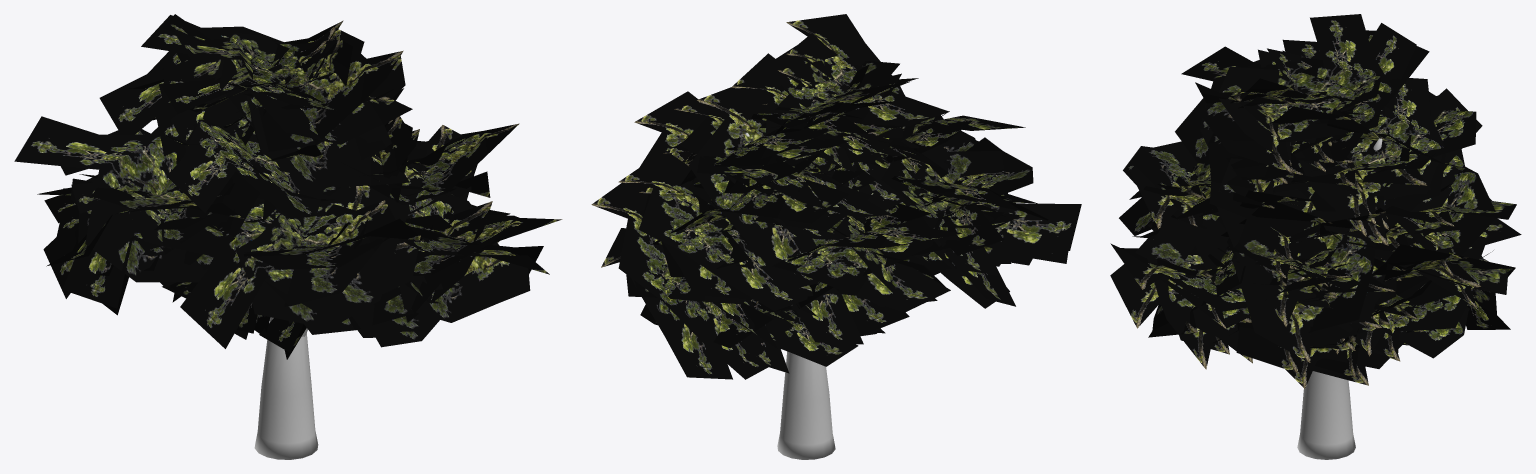
Rendered from Tree Texture V1.fbx.
3 views of the same model, side by side, from view 1: azimuth 30°, elevation 25°; view 2: azimuth 150°, elevation 25°; view 3: azimuth 270°, elevation 25° (orthographic). The views are drawn at different scales.
Parts seen in each view (by area): view 1: Cylinder|TexturesCom_Trees0134_1_masked_S|Dupli|144, Cylinder|TexturesCom_Trees0134_1_masked_S|Dupli|68, Cylinder|TexturesCom_Trees0134_1_masked_S|Dupli|95, Cylinder|TexturesCom_Trees0134_1_masked_S|Dupli|54, Cylinder, Cylinder|TexturesCom_Trees0134_1_masked_S|Dupli|56, Cylinder|TexturesCom_Trees0134_1_masked_S|Dupli|73, Cylinder|TexturesCom_Trees0134_1_masked_S|Dupli|72, Cylinder|TexturesCom_Trees0134_1_masked_S|Dupli|55, Cylinder|TexturesCom_Trees0134_1_masked_S|Dupli|117, Cylinder|TexturesCom_Trees0134_1_masked_S|Dupli|99, Cylinder|TexturesCom_Trees0134_1_masked_S|Dupli|83 (+35 smaller); view 2: Cylinder|TexturesCom_Trees0134_1_masked_S|Dupli|92, Cylinder|TexturesCom_Trees0134_1_masked_S|Dupli|97, Cylinder|TexturesCom_Trees0134_1_masked_S|Dupli|125, Cylinder|TexturesCom_Trees0134_1_masked_S|Dupli|142, Cylinder|TexturesCom_Trees0134_1_masked_S|Dupli|123, Cylinder, Cylinder|TexturesCom_Trees0134_1_masked_S|Dupli|54, Cylinder|TexturesCom_Trees0134_1_masked_S|Dupli|29, Cylinder|TexturesCom_Trees0134_1_masked_S|Dupli|99, Cylinder|TexturesCom_Trees0134_1_masked_S|Dupli|114, Cylinder|TexturesCom_Trees0134_1_masked_S|Dupli|96, Cylinder|TexturesCom_Trees0134_1_masked_S|Dupli|56 (+43 smaller); view 3: Cylinder|TexturesCom_Trees0134_1_masked_S|Dupli|56, Cylinder|TexturesCom_Trees0134_1_masked_S|Dupli|159, Cylinder|TexturesCom_Trees0134_1_masked_S|Dupli|160, Cylinder, Cylinder|TexturesCom_Trees0134_1_masked_S|Dupli|195, Cylinder|TexturesCom_Trees0134_1_masked_S|Dupli|186, Cylinder|TexturesCom_Trees0134_1_masked_S|Dupli|128, Cylinder|TexturesCom_Trees0134_1_masked_S|Dupli|75, Cylinder|TexturesCom_Trees0134_1_masked_S|Dupli|171, Cylinder|TexturesCom_Trees0134_1_masked_S|Dupli|70, Cylinder|TexturesCom_Trees0134_1_masked_S|Dupli|74, Cylinder|TexturesCom_Trees0134_1_masked_S|Dupli|99 (+55 smaller).
Boxes of the visible parts, x1,y1,x2,y2 form: Cylinder|TexturesCom_Trees0134_1_masked_S|Dupli|144: [14, 116, 208, 282]; Cylinder|TexturesCom_Trees0134_1_masked_S|Dupli|68: [180, 185, 409, 348]; Cylinder|TexturesCom_Trees0134_1_masked_S|Dupli|95: [166, 119, 324, 218]; Cylinder|TexturesCom_Trees0134_1_masked_S|Dupli|54: [250, 39, 403, 152]; Cylinder: [254, 317, 318, 459]; Cylinder|TexturesCom_Trees0134_1_masked_S|Dupli|56: [161, 55, 412, 144]; Cylinder|TexturesCom_Trees0134_1_masked_S|Dupli|73: [399, 187, 530, 322]; Cylinder|TexturesCom_Trees0134_1_masked_S|Dupli|72: [186, 200, 395, 306]; Cylinder|TexturesCom_Trees0134_1_masked_S|Dupli|55: [163, 63, 409, 187]; Cylinder|TexturesCom_Trees0134_1_masked_S|Dupli|117: [62, 213, 235, 308]; Cylinder|TexturesCom_Trees0134_1_masked_S|Dupli|99: [99, 26, 285, 134]; Cylinder|TexturesCom_Trees0134_1_masked_S|Dupli|83: [413, 123, 519, 202]; Cylinder|TexturesCom_Trees0134_1_masked_S|Dupli|92: [618, 150, 807, 310]; Cylinder|TexturesCom_Trees0134_1_masked_S|Dupli|97: [689, 77, 818, 289]; Cylinder|TexturesCom_Trees0134_1_masked_S|Dupli|125: [591, 183, 768, 379]; Cylinder|TexturesCom_Trees0134_1_masked_S|Dupli|142: [909, 151, 1081, 270]; Cylinder|TexturesCom_Trees0134_1_masked_S|Dupli|123: [772, 216, 950, 312]; Cylinder: [745, 132, 835, 459]; Cylinder|TexturesCom_Trees0134_1_masked_S|Dupli|54: [768, 14, 904, 179]; Cylinder|TexturesCom_Trees0134_1_masked_S|Dupli|29: [945, 137, 1033, 255]; Cylinder|TexturesCom_Trees0134_1_masked_S|Dupli|99: [663, 141, 890, 217]; Cylinder|TexturesCom_Trees0134_1_masked_S|Dupli|114: [620, 252, 732, 379]; Cylinder|TexturesCom_Trees0134_1_masked_S|Dupli|96: [709, 149, 849, 223]; Cylinder|TexturesCom_Trees0134_1_masked_S|Dupli|56: [794, 78, 949, 126]; Cylinder|TexturesCom_Trees0134_1_masked_S|Dupli|56: [1202, 39, 1356, 172]; Cylinder|TexturesCom_Trees0134_1_masked_S|Dupli|159: [1232, 210, 1385, 362]; Cylinder|TexturesCom_Trees0134_1_masked_S|Dupli|160: [1236, 233, 1375, 373]; Cylinder: [1277, 104, 1382, 459]; Cylinder|TexturesCom_Trees0134_1_masked_S|Dupli|195: [1300, 14, 1394, 111]; Cylinder|TexturesCom_Trees0134_1_masked_S|Dupli|186: [1335, 79, 1442, 229]; Cylinder|TexturesCom_Trees0134_1_masked_S|Dupli|128: [1396, 166, 1495, 305]; Cylinder|TexturesCom_Trees0134_1_masked_S|Dupli|75: [1110, 223, 1249, 335]; Cylinder|TexturesCom_Trees0134_1_masked_S|Dupli|171: [1145, 216, 1238, 369]; Cylinder|TexturesCom_Trees0134_1_masked_S|Dupli|70: [1129, 141, 1219, 228]; Cylinder|TexturesCom_Trees0134_1_masked_S|Dupli|74: [1110, 243, 1247, 311]; Cylinder|TexturesCom_Trees0134_1_masked_S|Dupli|99: [1356, 95, 1476, 185].
Bounding box in the file's own units: 2168 × 1868 × 1782.
